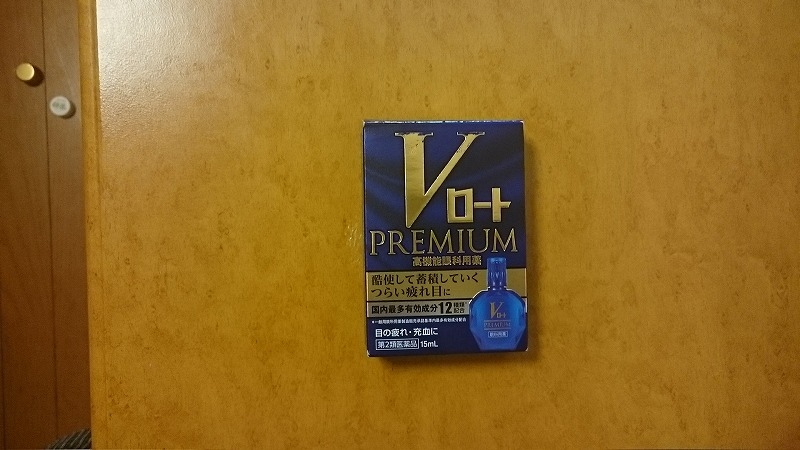D: (359, 116, 535, 362)
